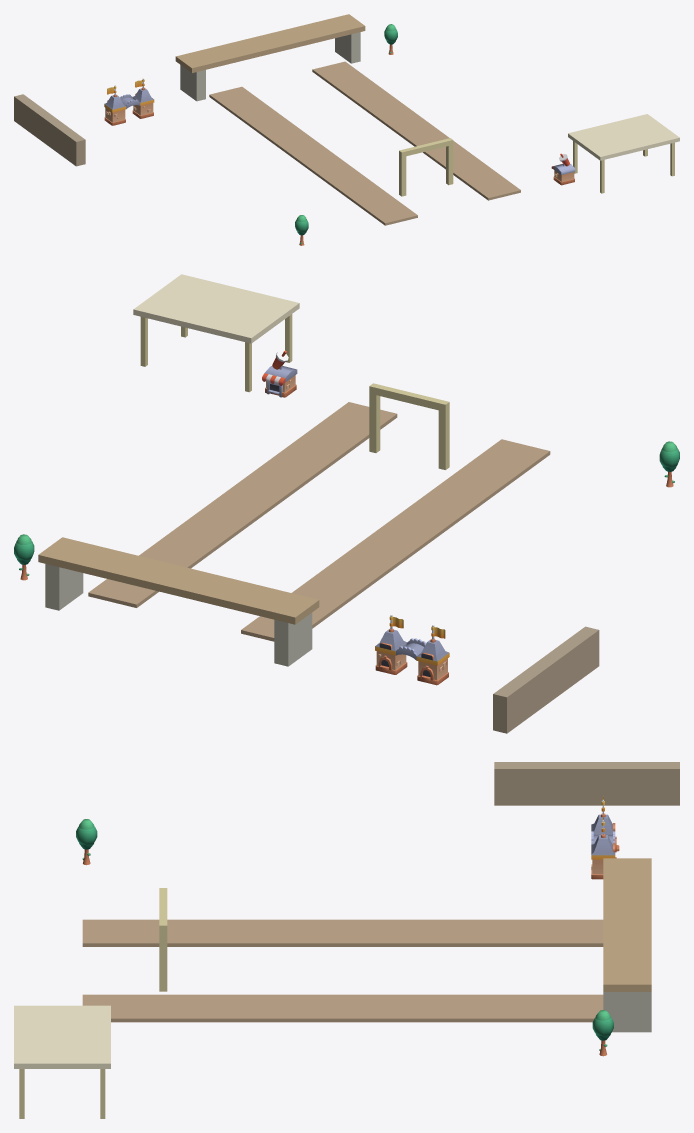
Rendered from gardens-1-4.glb.
3 renders of one model, top to bottom at view 1: azimuth 30°, elevation 25°; view 2: azimuth 150°, elevation 25°; view 3: azimuth 270°, elevation 25°, orthographic. The views are drawn at different scales.
Visible parts, largest first — view 1: gardens-1-4; view 2: gardens-1-4; view 3: gardens-1-4.
Boxes of the visible parts, x1,y1,x2,y2 form: gardens-1-4: (14,14,679,245); gardens-1-4: (14,274,679,733); gardens-1-4: (14,762,679,1118).
Bounding box in the file's own units: 189 × 18 × 165.
Materials: 10 (4 with a texture image).
